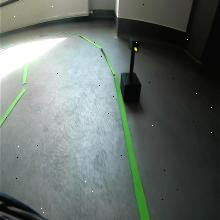green: (127, 35, 140, 53)
